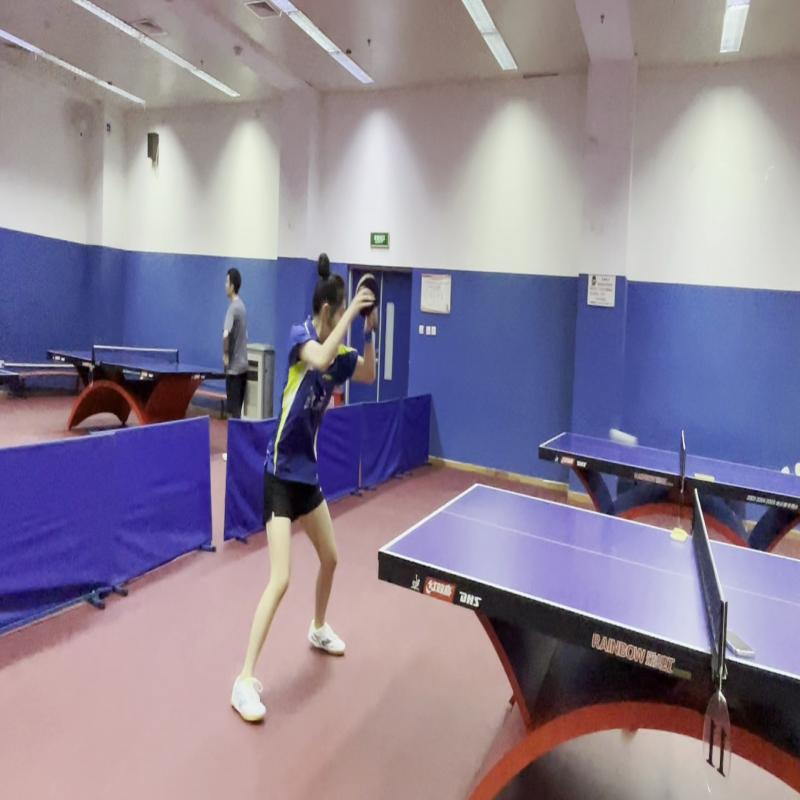bats: (350, 269, 380, 320)
